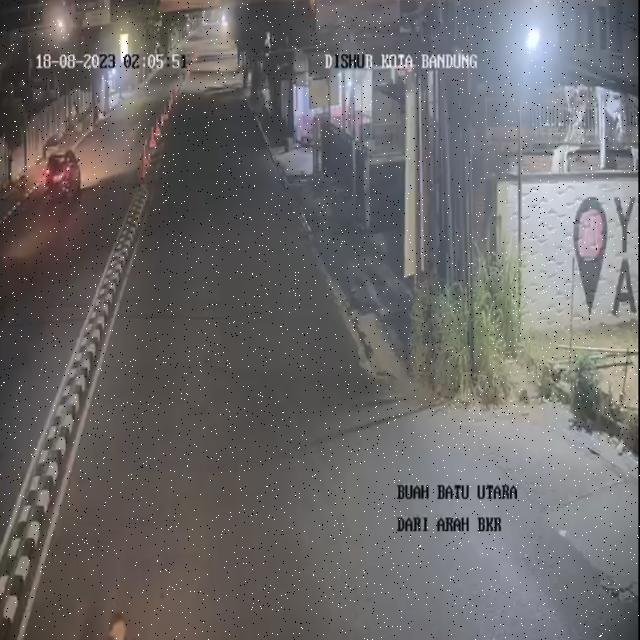motorcycle: (76, 607, 150, 640)
